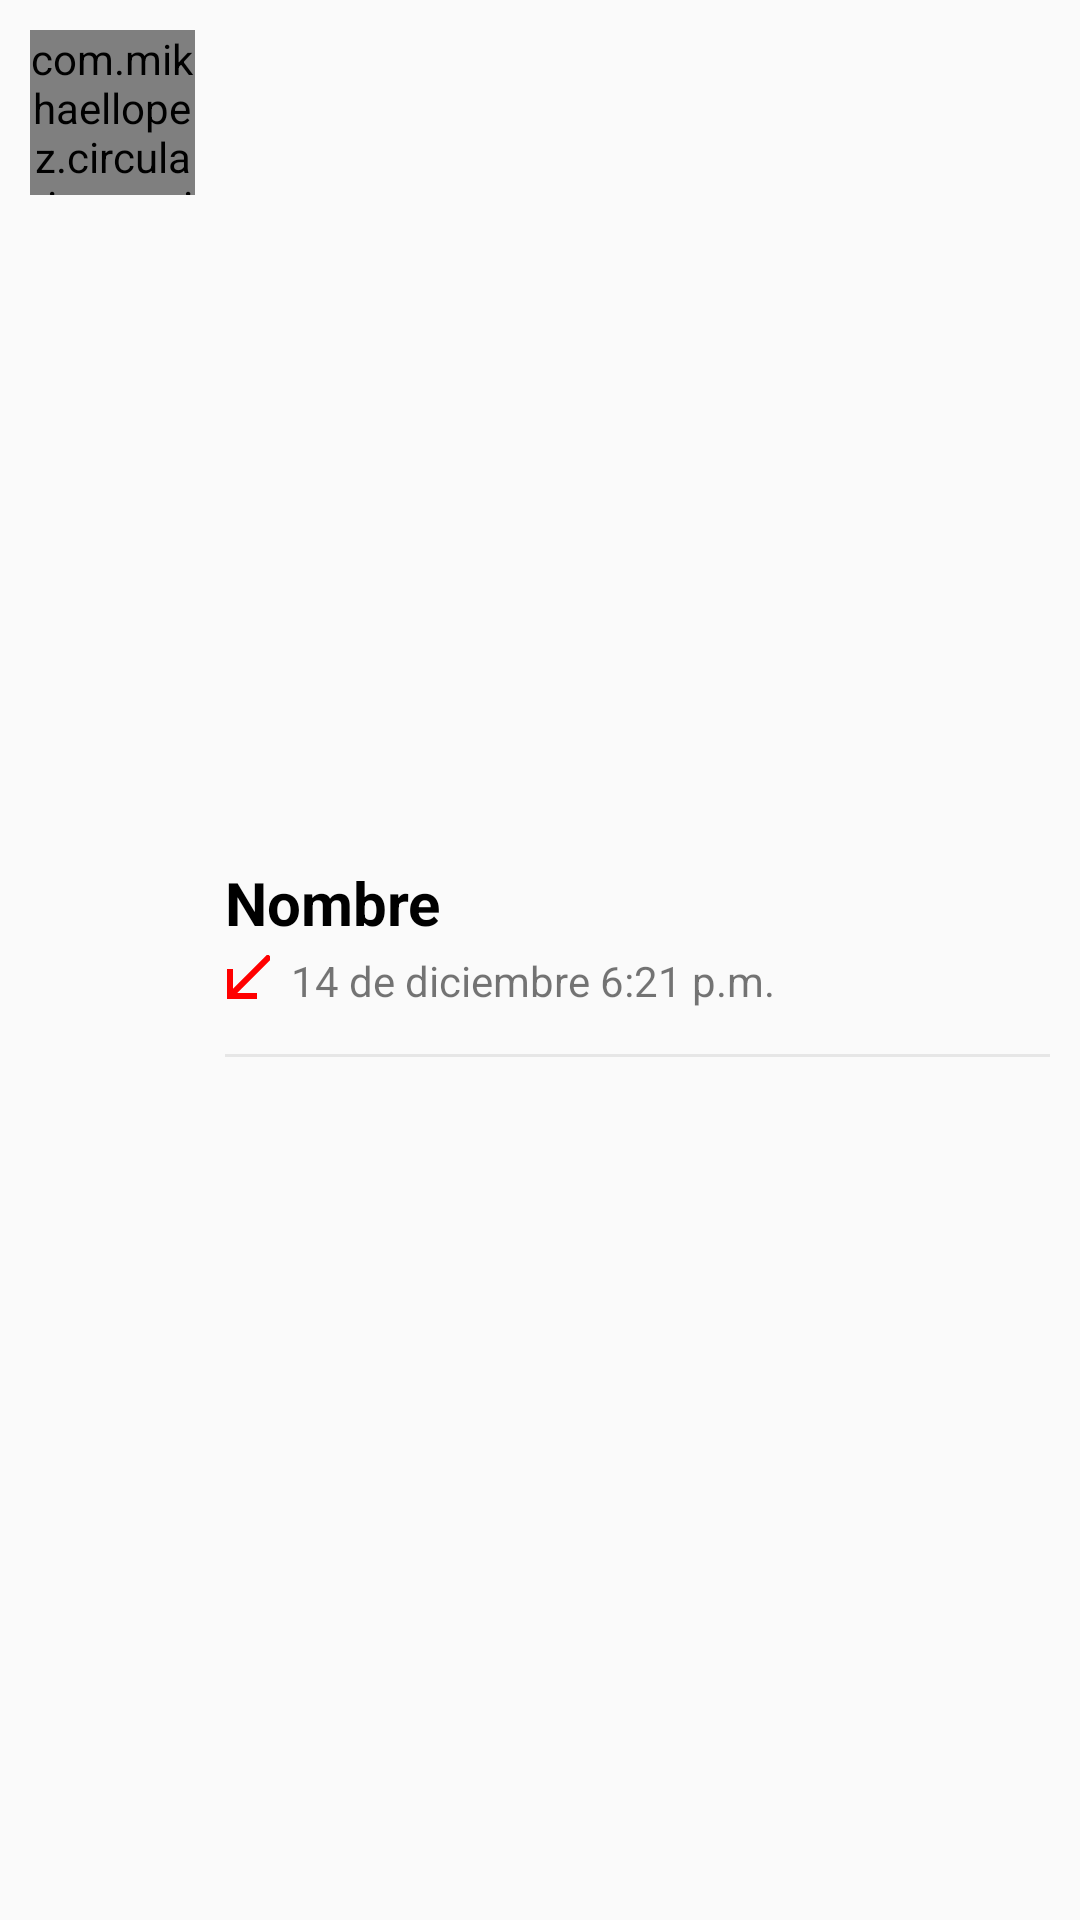

Point at icon controls on the screen. Image size 1080*1920, points as (x=x, y=y).
llamada recibida: (x=248, y=977)
